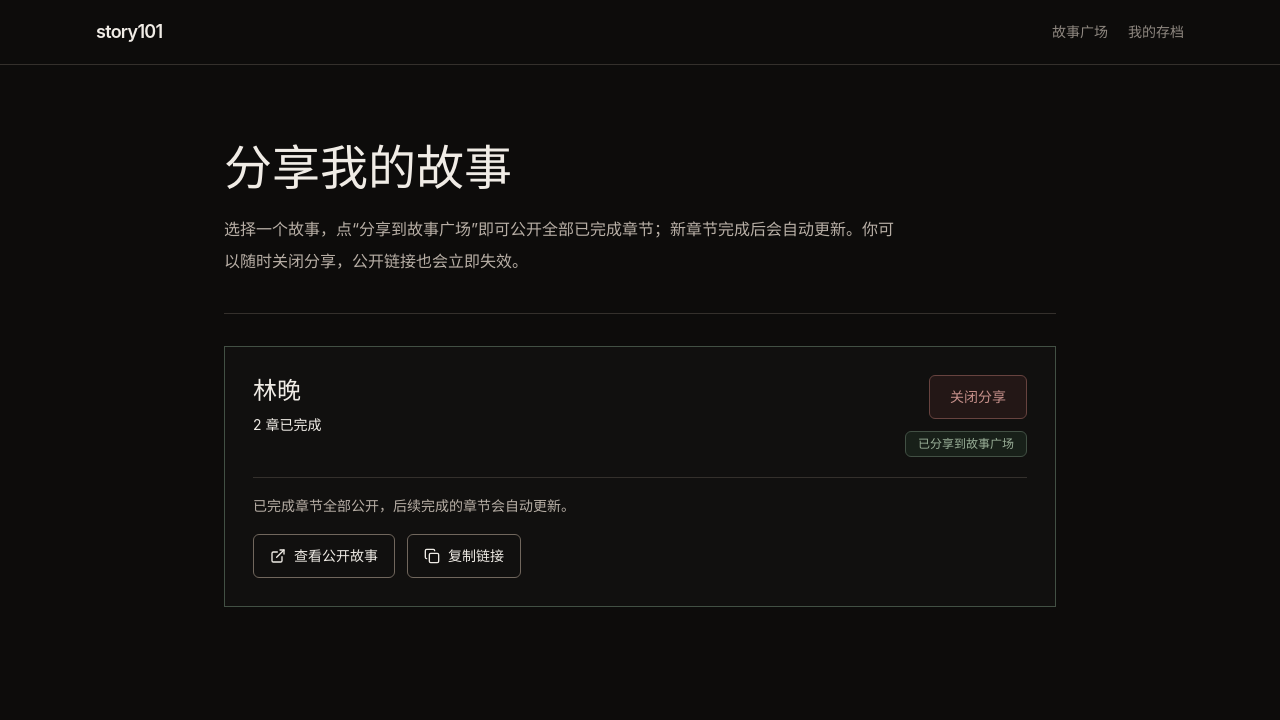
Scenario: names the close action and hides the public link when sharing is off
Expected: the text "已分享到故事广场" is shown, [905, 431, 1027, 457]
Expected: the link "查看公开故事" is shown, [253, 534, 395, 578]
What coordinates should you click on to do the following:
click the button "关闭分享"
I would click on:
 (978, 397)
Its box is [929, 375, 1027, 419].
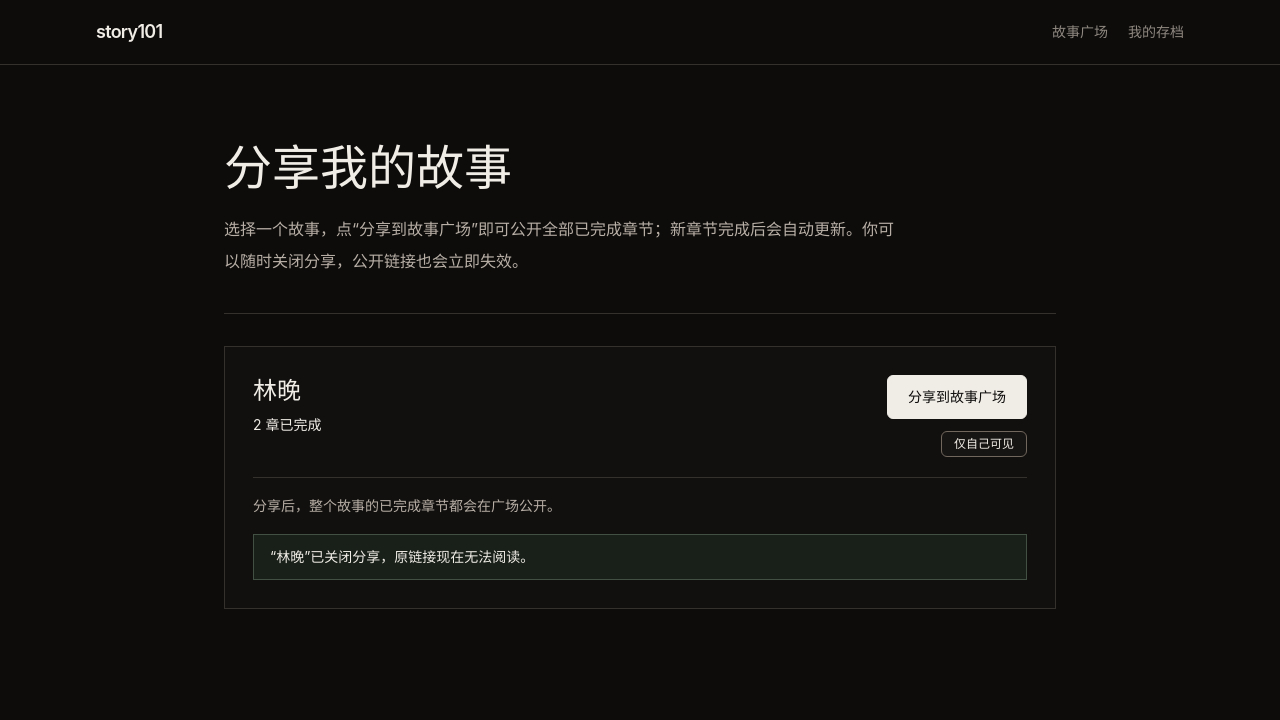
Now the text "仅自己可见" is shown, box [941, 431, 1027, 457]
Now the link "查看公开故事" is gone
Now the button "分享到故事广场" is shown, box [887, 375, 1027, 419]
